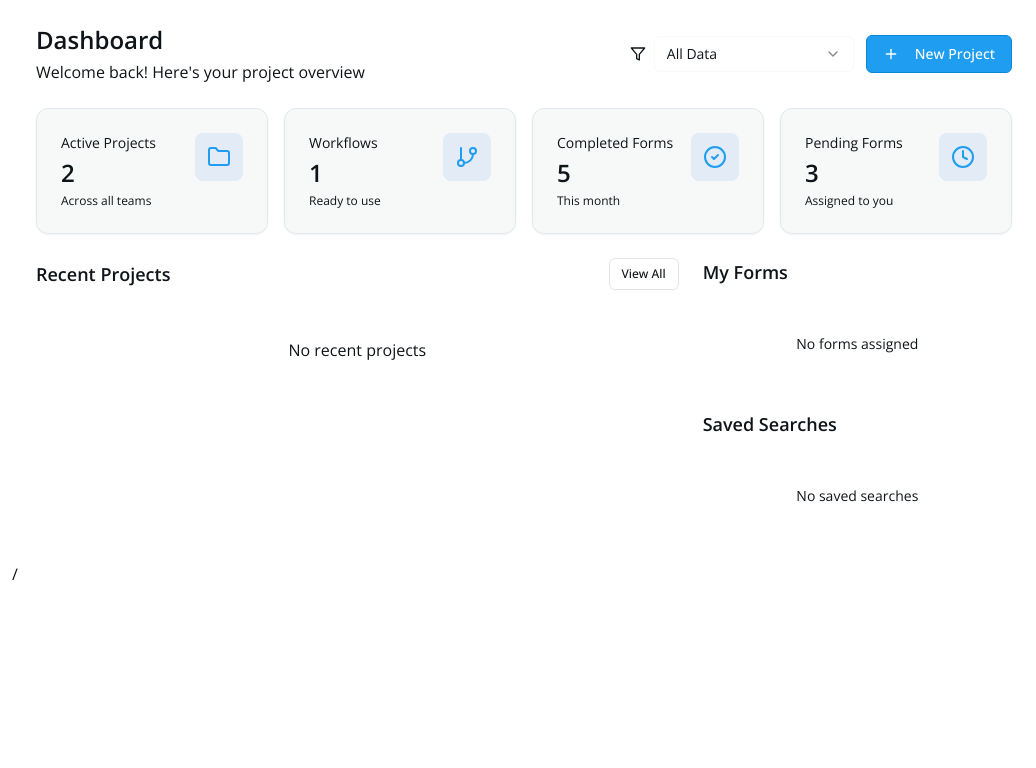
it: Dashboard redirect › navigates to the projects list when clicking View All
This screenshot has width=1036, height=768.
Click the button with test id "button-view-all-projects".
click(644, 274)  # box [608,258,679,290]
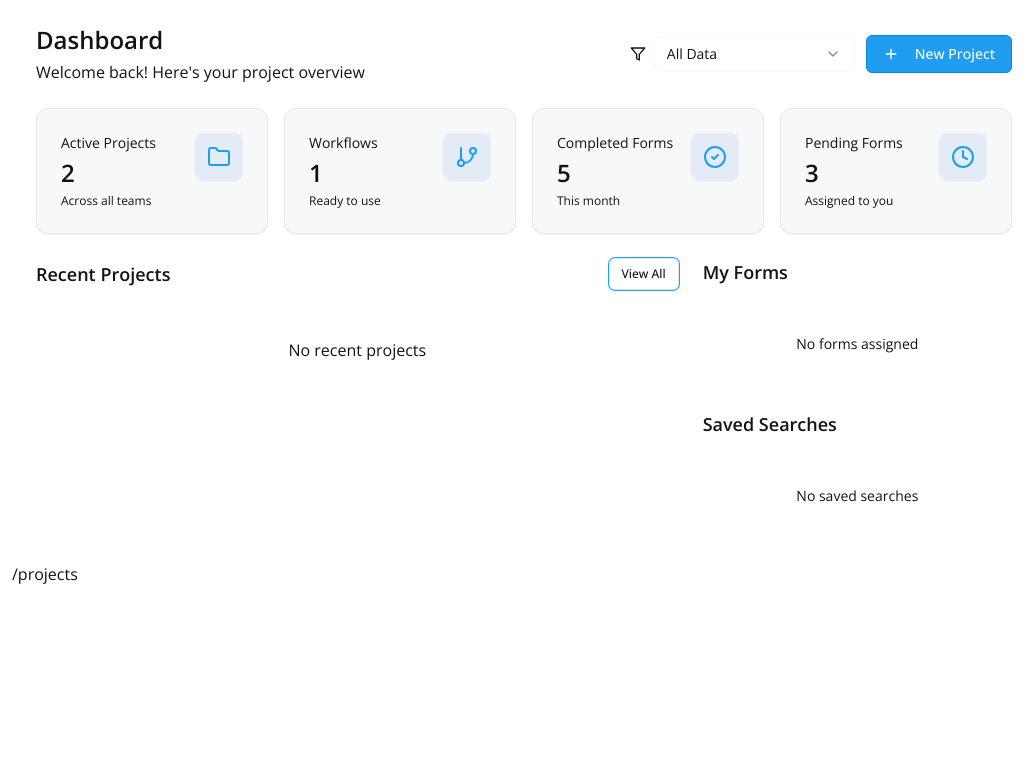
Check: the text with test id "current-path" reads "/projects", box [12,563,78,585]
